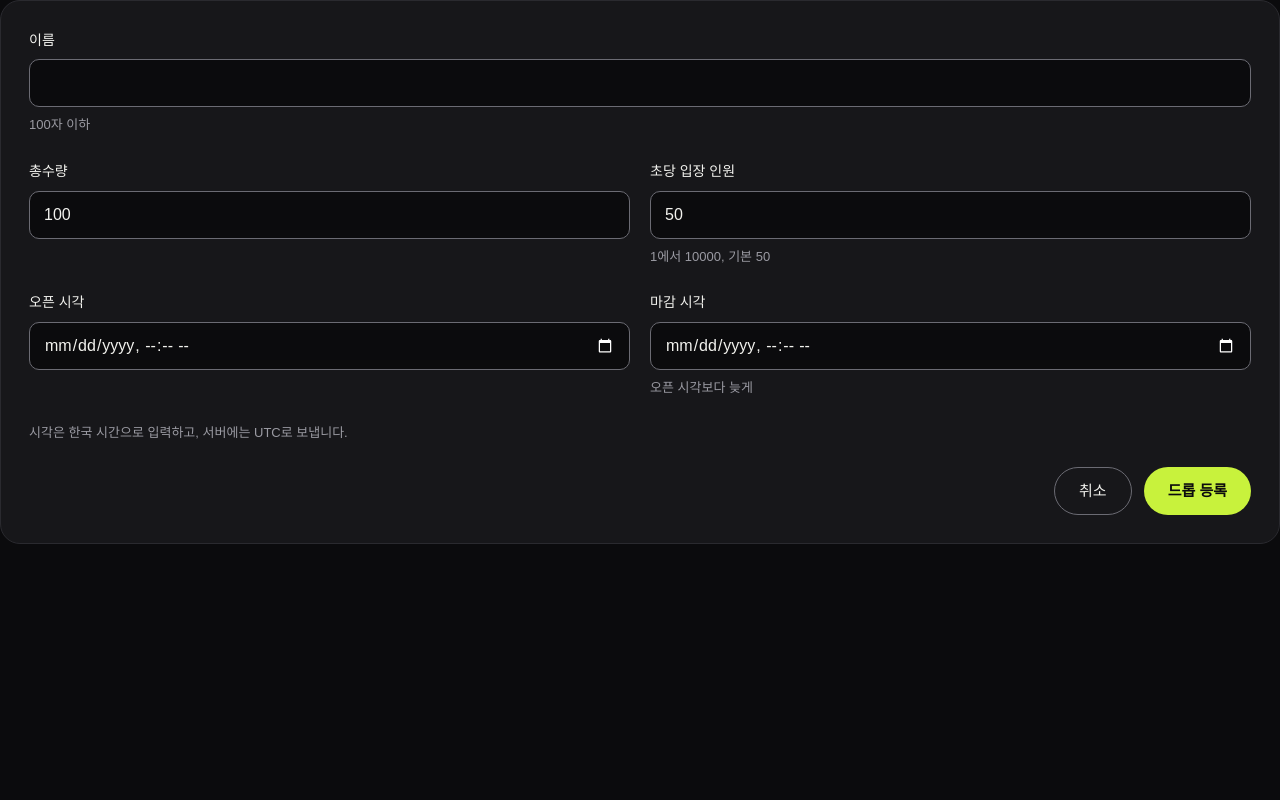
DropForm › 거절된 뒤에도 입력한 값을 입력란에 남긴다
Type "가을 스니커즈" into the field labelled "이름" at (640, 83), box [29,59,1251,107]
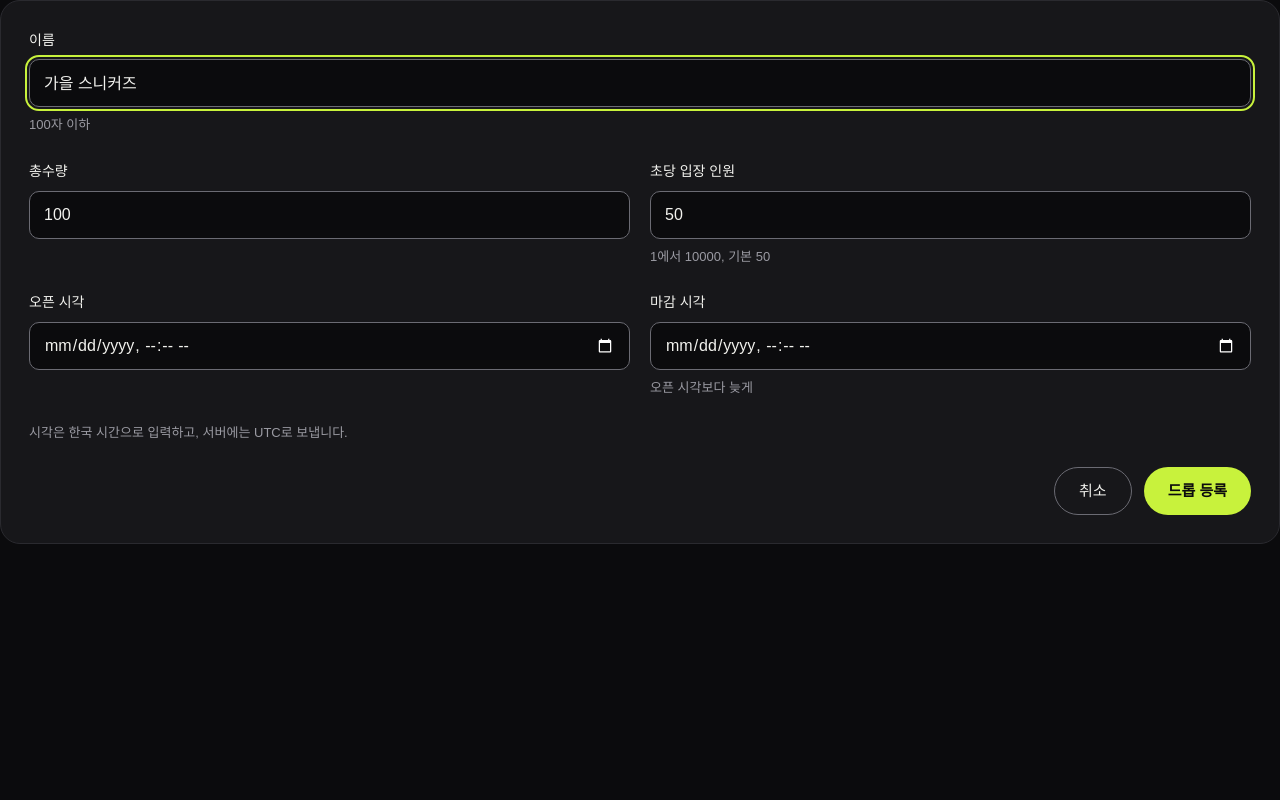
Click the button "드롭 등록" at (1197, 491), box [1144,467,1251,515]
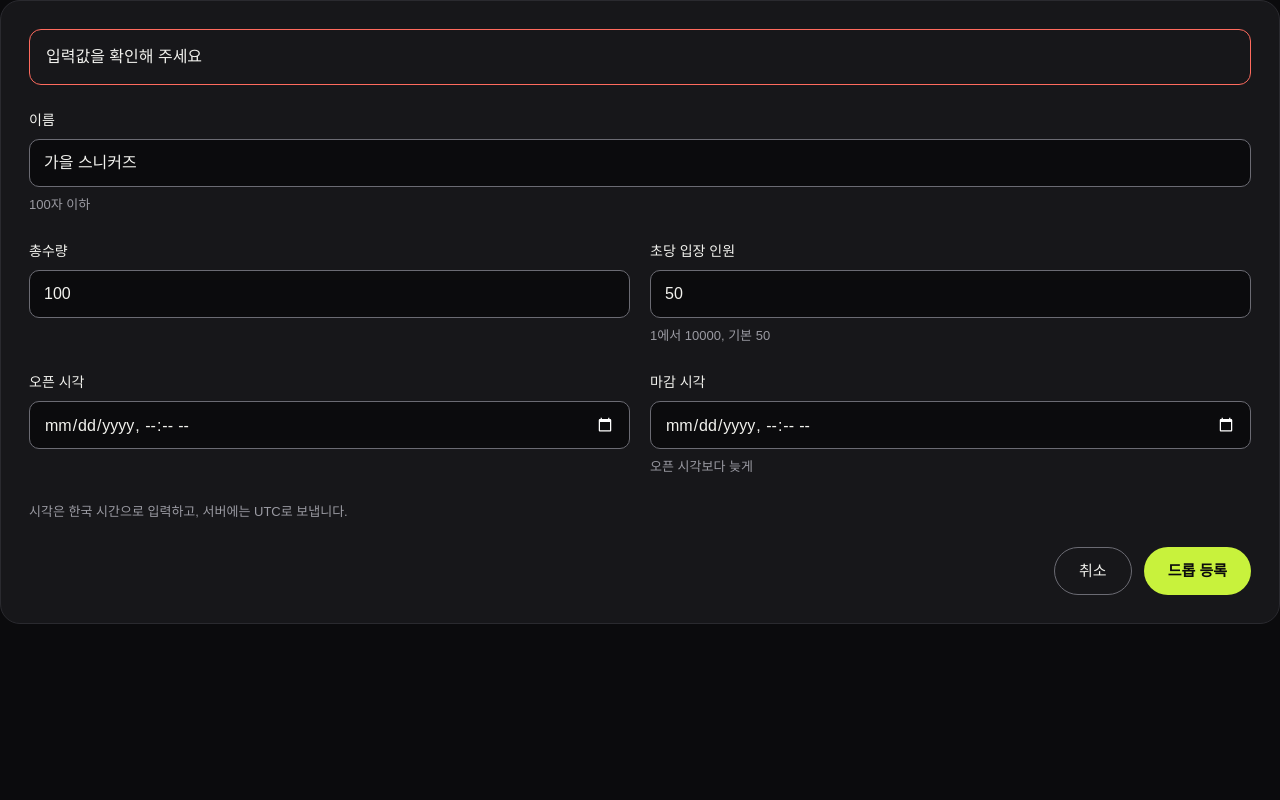
expect the message "입력값을 확인해 주세요" is shown: met, box [29,29,1251,85]
